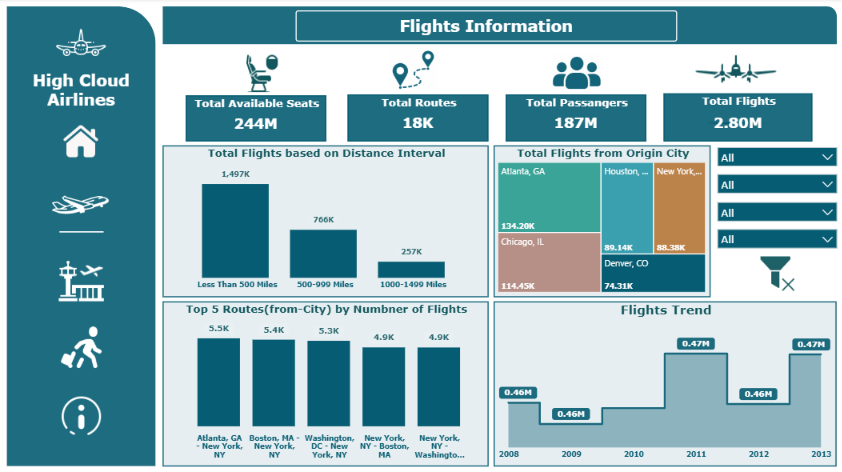

This screenshot's page, from the dashboard's own definition file:
{"tool":"powerbi","page":{"name":"Flights Information","canvas":[1280,720],"ordinal":2},"visuals":[{"type":"columnChart","title":"Total Flights based on Distance Interval","fields":{"Category":["Distance Groups.Distance Interval"],"Y":["KPI_Measures.Total_Flights"]},"box":[249.4,222.2,492.8,229.8],"z":0},{"type":"columnChart","title":"Top 5 Routes(from-City) by Numbner of Flights","fields":{"Category":["Fact_Airline_Data.From - To City"],"Y":["KPI_Measures.Total_Flights"]},"box":[249.4,458,492.8,249.4],"z":1000},{"type":"treemap","title":"Total Flights from Origin City","fields":{"Group":["Fact_Airline_Data.Origin City"],"Values":["KPI_Measures.Total_Flights"]},"box":[749.7,222.2,328,229.8],"z":2000},{"type":"image","box":[338.9,81.9,122.3,60.4],"z":3000},{"type":"image","box":[819.2,84.7,112.8,53.3],"z":4000},{"type":"image","box":[1143,390.1,72,51.6],"z":5000},{"type":"image","box":[1016.2,64.8,203,124.7],"z":6000},{"type":"shape","box":[13.6,12.2,225.4,695.1],"z":7000},{"type":"image","box":[86.3,182.9,79.5,70.1],"z":8000},{"type":"image","box":[59.3,275.9,133.4,88.9],"z":9000},{"type":"image","box":[79.5,387.8,93,75.5],"z":10000},{"type":"image","box":[80.9,490.2,91.6,75.5],"z":11000},{"type":"image","box":[91.6,598.4,68.7,66],"z":12000},{"type":"textbox","box":[13.5,103.8,225.1,78.2],"z":13000},{"type":"image","box":[33.7,32.3,186,75.5],"z":14000},{"type":"shape","box":[249.1,12.1,1019.1,57.4],"z":15000},{"type":"textbox","box":[450,18.6,577.1,47.1],"z":16000},{"type":"card","title":"Total Passangers","fields":{"Values":["KPI_Measures.Total_Flights"]},"box":[768.2,145.5,212.9,71],"z":17000},{"type":"card","title":"Total Available Seats","fields":{"Values":["KPI_Measures.Total_Available_Seats"]},"box":[284.6,146.9,212.9,69.5],"z":18000},{"type":"card","title":"Total Routes","fields":{"Values":["KPI_Measures.Total_Routes"]},"box":[529.7,145.5,212.9,71],"z":19000},{"type":"card","title":"Total Flights","fields":{"Values":["KPI_Measures.Total_Flights"]},"box":[1007.5,143.7,225,72.5],"z":20000},{"type":"image","box":[564.9,77.2,123.5,59.9],"z":21000},{"type":"slicer","fields":{"Values":["CalanderTable.Date.Variation.Date Hierarchy.Year"]},"box":[1077.8,297.3,200.8,51.3],"z":22000},{"type":"slicer","title":"Country","fields":{"Values":["Fact_Airline_Data.Origin Country"]},"box":[1077.8,214.2,200.8,51.3],"z":23000},{"type":"slicer","fields":{"Values":["Fact_Airline_Data.Carrier Name"]},"box":[1077.8,255,200.8,51.3],"z":24000},{"type":"slicer","fields":{"Values":["CalanderTable.Date.Variation.Date Hierarchy.Month"]},"box":[1077.8,338,200.8,51.3],"z":25000},{"type":"areaChart","title":"Flights Trend ","fields":{"Category":["CalanderTable.Date.Variation.Date Hierarchy.Year","CalanderTable.Date.Variation.Date Hierarchy.Quarter","CalanderTable.Date.Variation.Date Hierarchy.Month","CalanderTable.Date.Variation.Date Hierarchy.Day"],"Y":["KPI_Measures.Total_Flights"]},"box":[749.7,458,518.5,249.4],"z":26000}]}

Visuals, with their boxes in screenshot pixels (x1, y1, x2, y2), scaled from the page's 1280x720 canvas onto the 842x472 screenshot:
"Total Flights based on Distance Interval" columnChart: (164, 146, 488, 296)
"Top 5 Routes(from-City) by Numbner of Flights" columnChart: (164, 300, 488, 464)
"Total Flights from Origin City" treemap: (493, 146, 709, 296)
image: (223, 54, 303, 93)
image: (539, 56, 613, 90)
image: (752, 256, 799, 290)
image: (668, 42, 802, 124)
shape: (9, 8, 157, 464)
image: (57, 120, 109, 166)
image: (39, 181, 127, 239)
image: (52, 254, 113, 304)
image: (53, 321, 113, 371)
image: (60, 392, 105, 436)
textbox: (9, 68, 157, 119)
image: (22, 21, 145, 71)
shape: (164, 8, 834, 46)
textbox: (296, 12, 676, 43)
"Total Passangers" card: (505, 95, 645, 142)
"Total Available Seats" card: (187, 96, 327, 142)
"Total Routes" card: (348, 95, 488, 142)
"Total Flights" card: (663, 94, 811, 142)
image: (372, 51, 453, 90)
slicer - CalanderTable.Date.Variation.Date Hierarchy.Year: (709, 195, 841, 229)
"Country" slicer: (709, 140, 841, 174)
slicer - Fact_Airline_Data.Carrier Name: (709, 167, 841, 201)
slicer - CalanderTable.Date.Variation.Date Hierarchy.Month: (709, 222, 841, 255)
"Flights Trend " areaChart: (493, 300, 834, 464)
